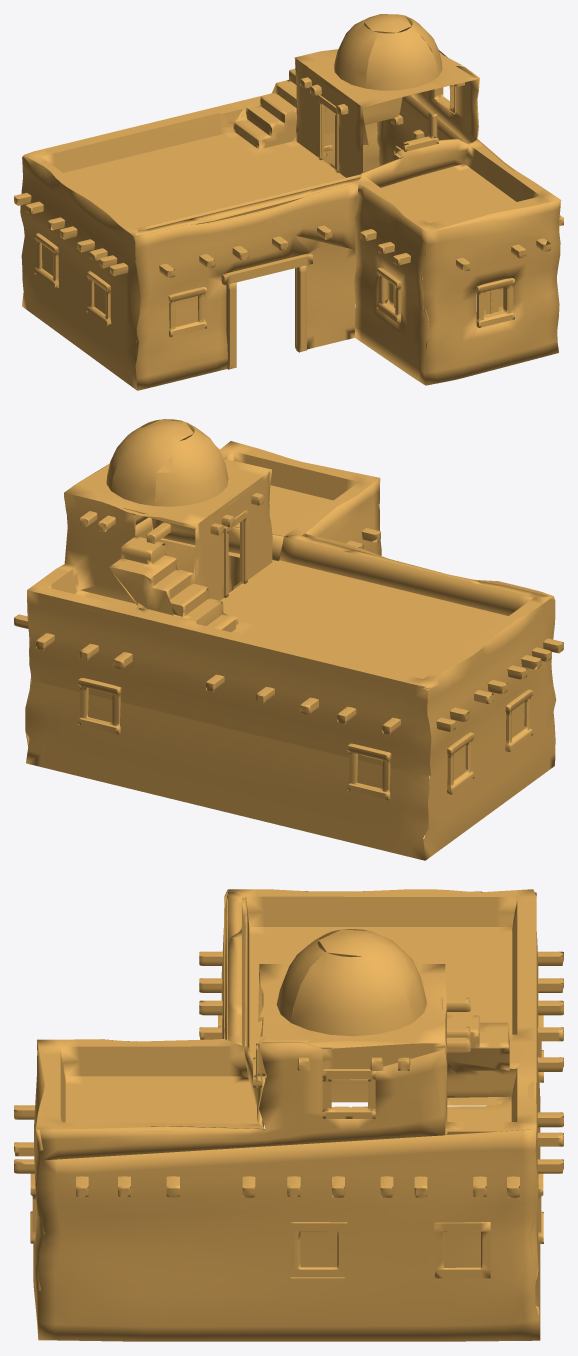
The model's file is buildings_3.fbx.
3 renders of one model, top to bottom at view 1: azimuth 30°, elevation 25°; view 2: azimuth 150°, elevation 25°; view 3: azimuth 270°, elevation 25°, orthographic. The views are drawn at different scales.
Visible parts, largest first — view 1: Retopo_Gemini_Generated_Image_x12utgx_Polygonal_buildin_bd3b (×10); view 2: Retopo_Gemini_Generated_Image_x12utgx_Polygonal_buildin_bd3b (×8); view 3: Retopo_Gemini_Generated_Image_x12utgx_Polygonal_buildin_bd3b (×5).
Part boxes in pixels (x1=…): Retopo_Gemini_Generated_Image_x12utgx_Polygonal_buildin_bd3b (×10): x1=20, y1=14, x2=561, y2=390; Retopo_Gemini_Generated_Image_x12utgx_Polygonal_buildin_bd3b (×8): x1=25, y1=419, x2=556, y2=860; Retopo_Gemini_Generated_Image_x12utgx_Polygonal_buildin_bd3b (×5): x1=30, y1=889, x2=540, y2=1341.
Bounding box in the file's own units: 4940 × 3202 × 4371.
